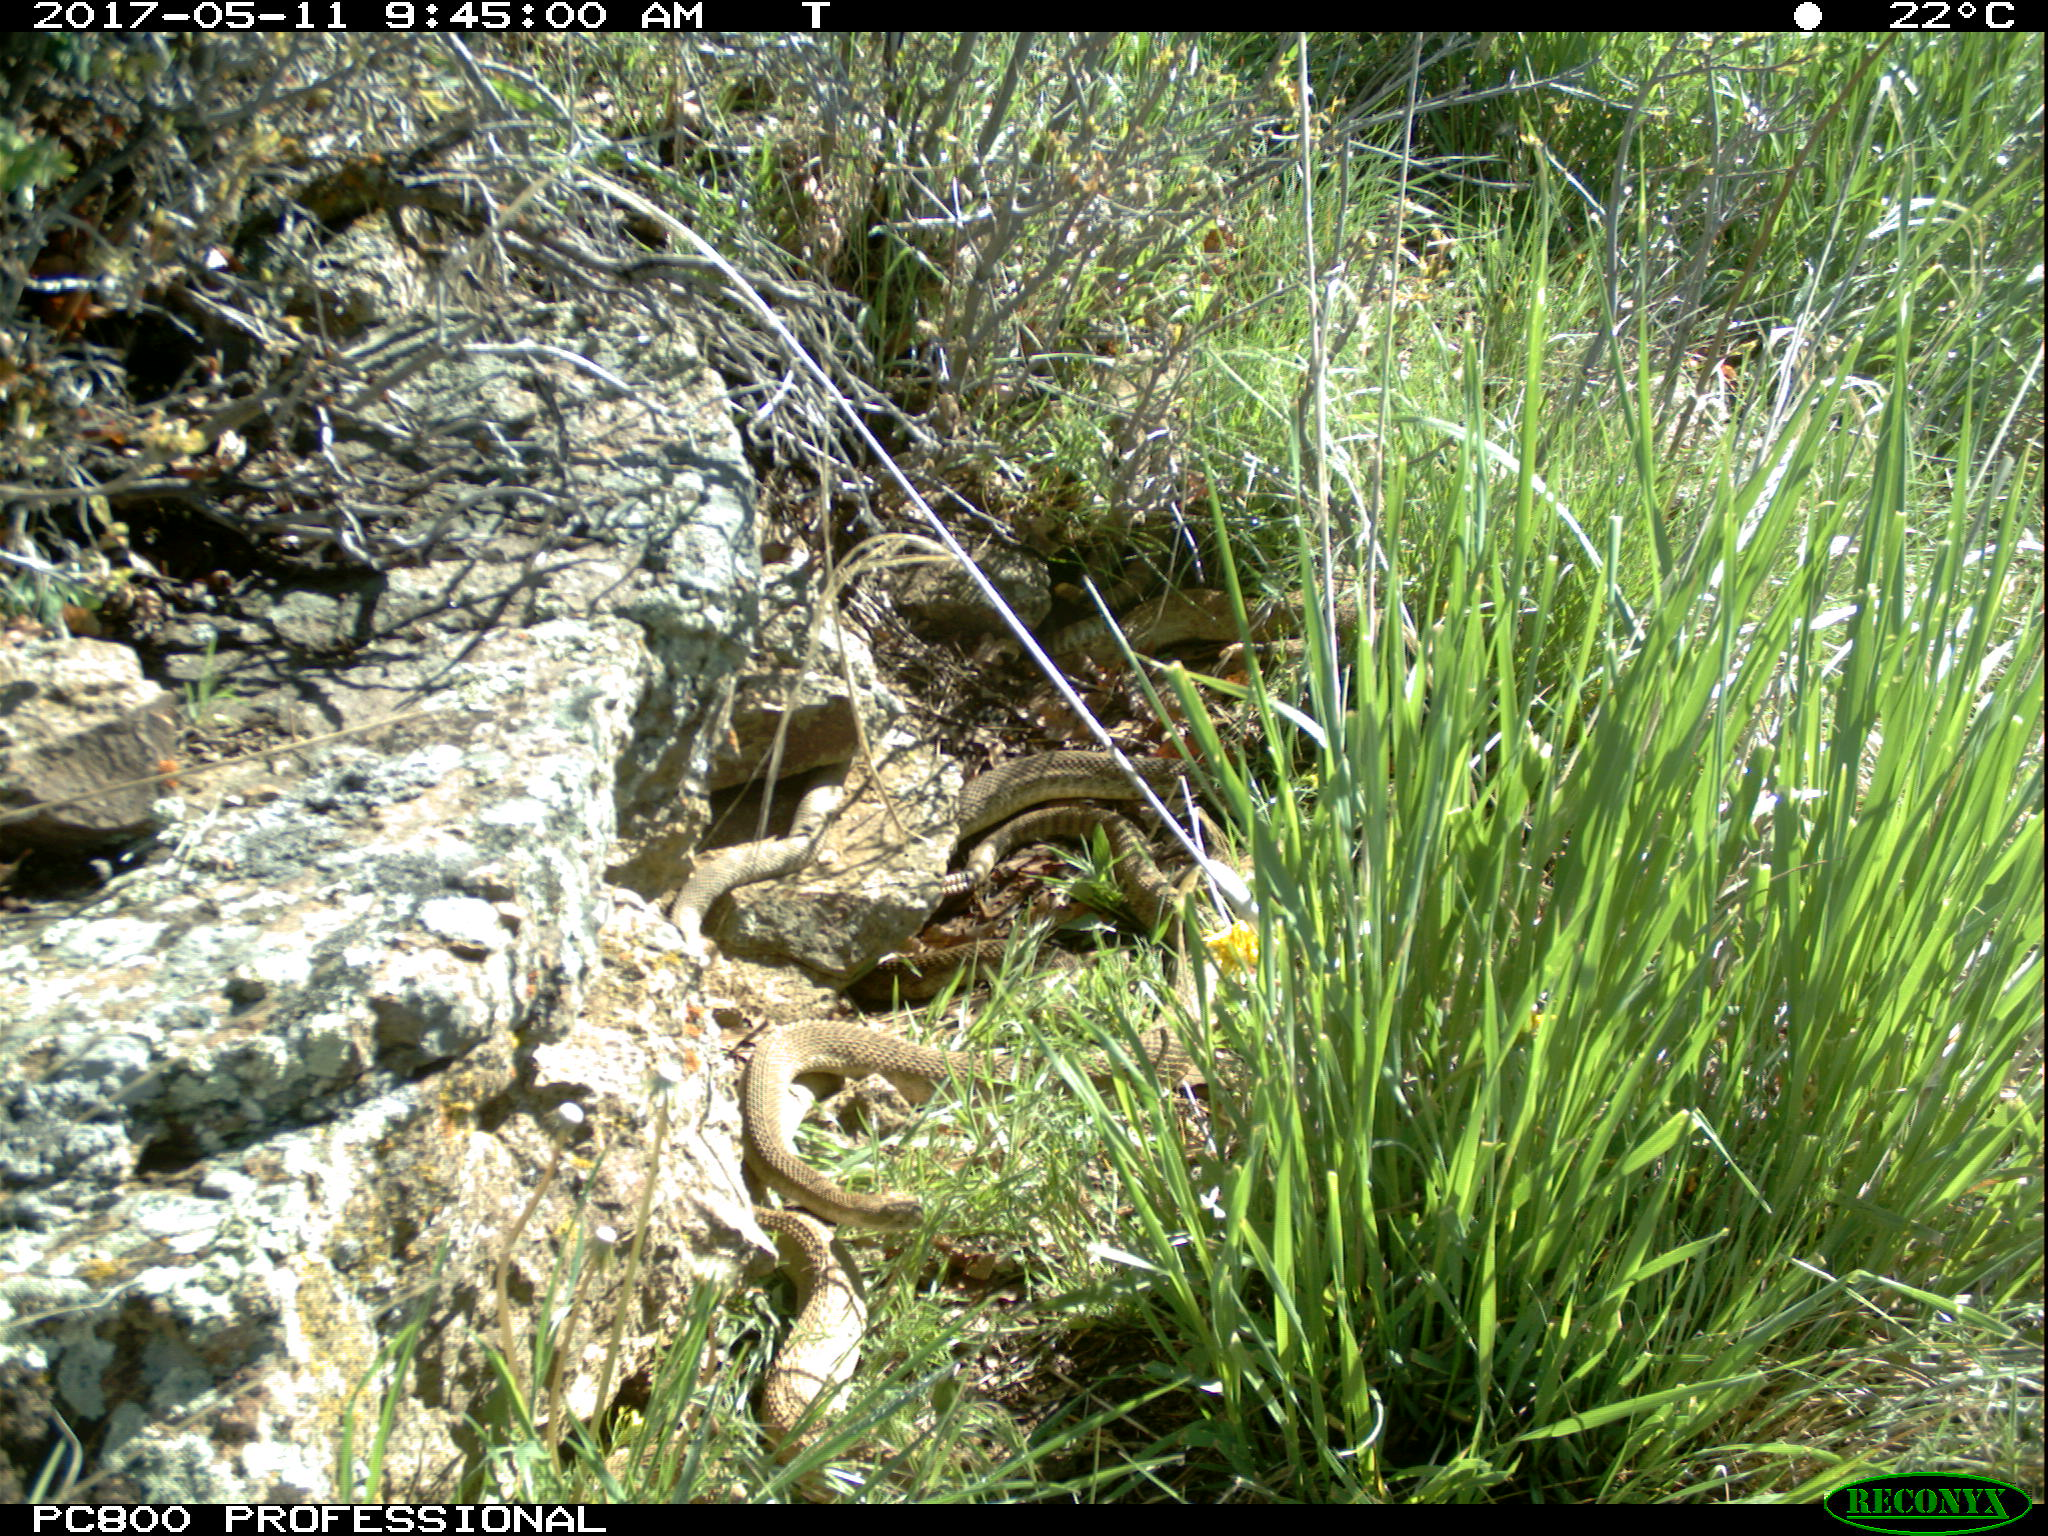snake: (739, 999, 1201, 1228), (747, 1200, 887, 1502), (964, 807, 1222, 949), (937, 739, 1250, 849), (671, 778, 858, 936), (1047, 576, 1342, 668)
